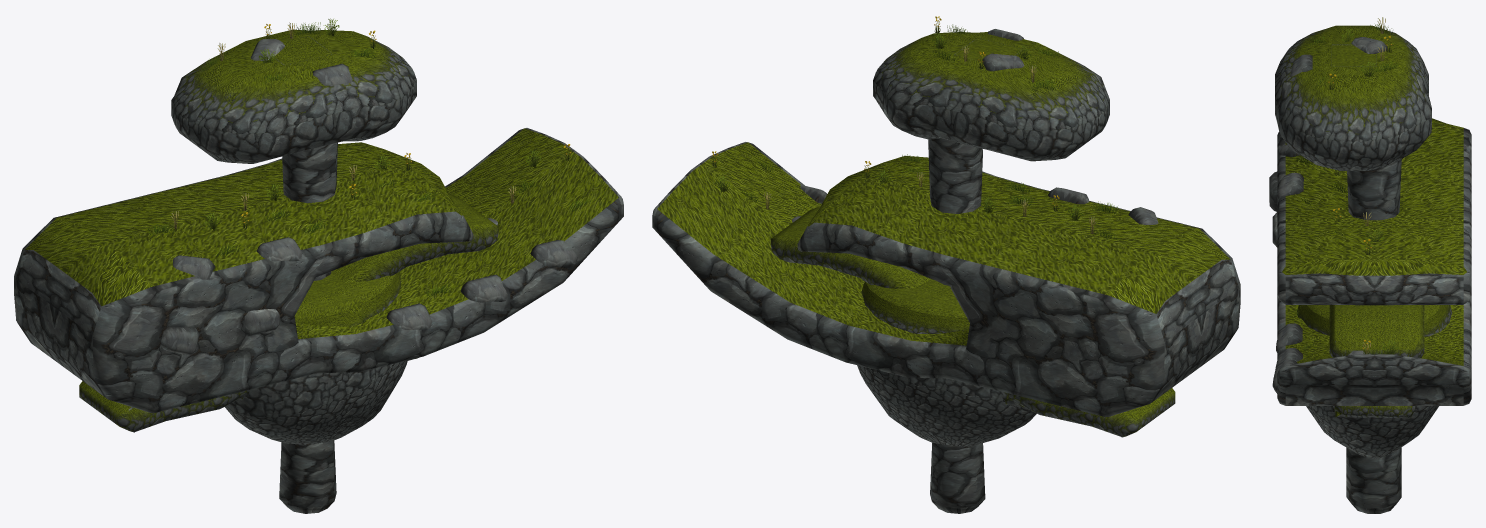
The model's file is floating_island2.fbx.
The picture shows the model from 3 angles, left to right: view 1: azimuth 30°, elevation 25°; view 2: azimuth 150°, elevation 25°; view 3: azimuth 270°, elevation 25°; orthographic projection. The views are drawn at different scales.
Visible parts, largest first — view 1: Default_Layer; view 2: Default_Layer; view 3: Default_Layer.
Boxes of the visible parts, left/top/right/bottom form: Default_Layer: left=14, top=18, right=623, bottom=513; Default_Layer: left=652, top=16, right=1240, bottom=513; Default_Layer: left=1269, top=17, right=1471, bottom=513.
Size of the model in its own units: 24.2 by 21.48 by 8.65.
4 materials, 4 textured.
